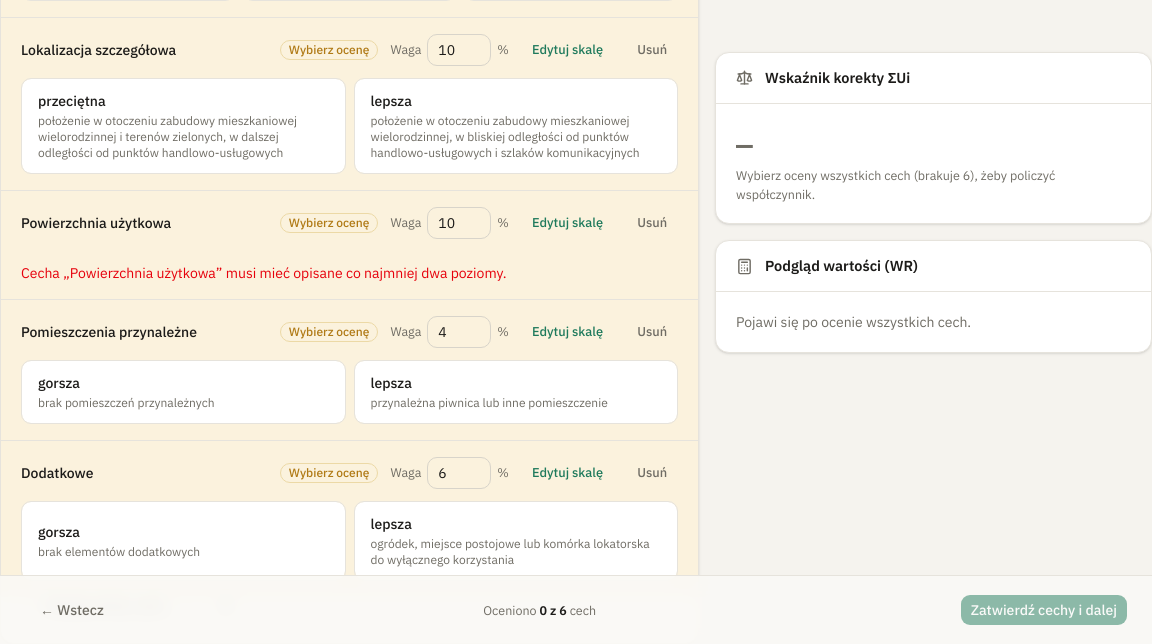
Test: StepFeatures — bag add/remove (Slice 7, migrated Task 10) › removing a feature deletes its row and returns it to the pool
(page scrolled)
Click the button with test id "remove-feature-dodatkowe": click(652, 473) [626,459,678,487]
(page scrolled)
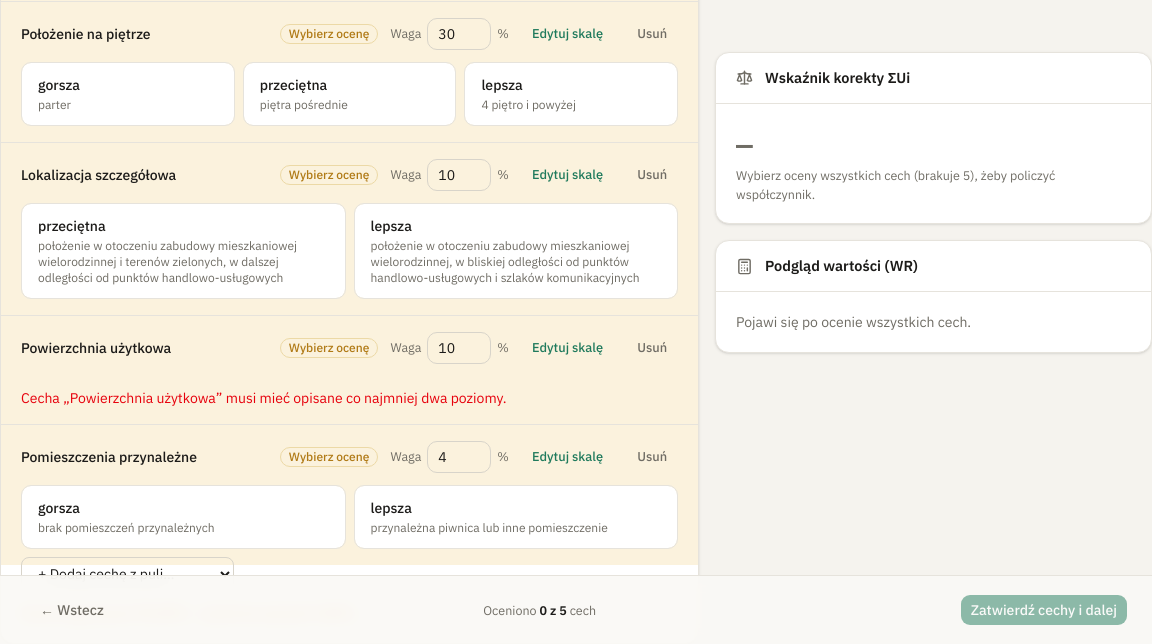
Expected: the button with test id "remove-feature-dodatkowe" is gone
